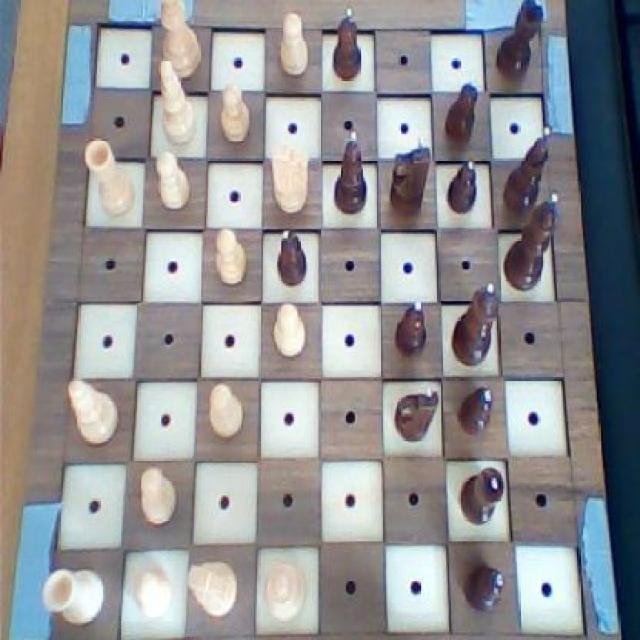bishop: (500, 122, 553, 216), (331, 126, 370, 217)
black-bishop: (505, 191, 563, 290)
black-king: (388, 129, 430, 218), (391, 377, 440, 444)
black-knight: (462, 554, 508, 621), (443, 72, 479, 145), (391, 298, 432, 362), (330, 6, 364, 83), (443, 155, 480, 220), (270, 226, 308, 288), (457, 380, 495, 439)
black-pawn: (446, 278, 501, 368)
black-queen: (494, 0, 549, 86), (454, 462, 505, 526)
black-rook: (154, 55, 200, 148), (65, 376, 123, 448)
white-bishop: (147, 0, 205, 78)
white-king: (266, 138, 315, 216), (188, 555, 238, 620)
white-knight: (129, 558, 177, 624), (134, 462, 179, 532), (211, 224, 252, 288), (214, 81, 254, 146), (206, 382, 247, 443), (277, 8, 311, 80), (154, 151, 190, 214), (272, 300, 307, 362)
white-pawn: (258, 555, 312, 623)
white-queen: (79, 132, 136, 222), (42, 562, 106, 629)
